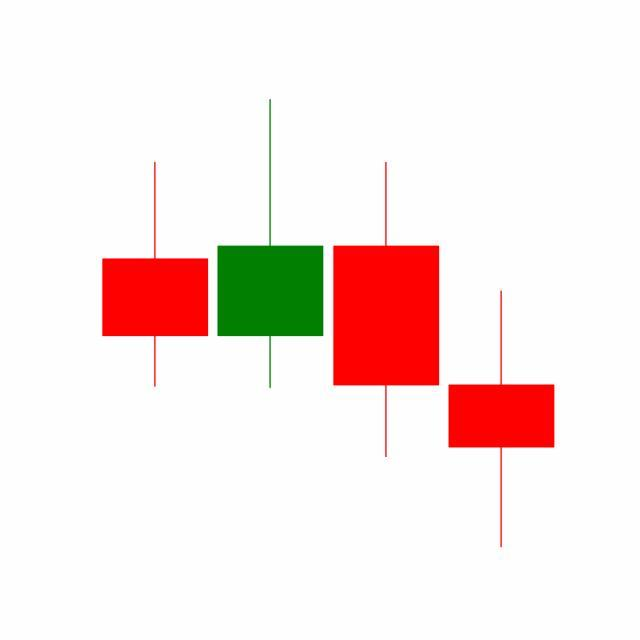Spinning Top: (444, 288, 560, 551)
